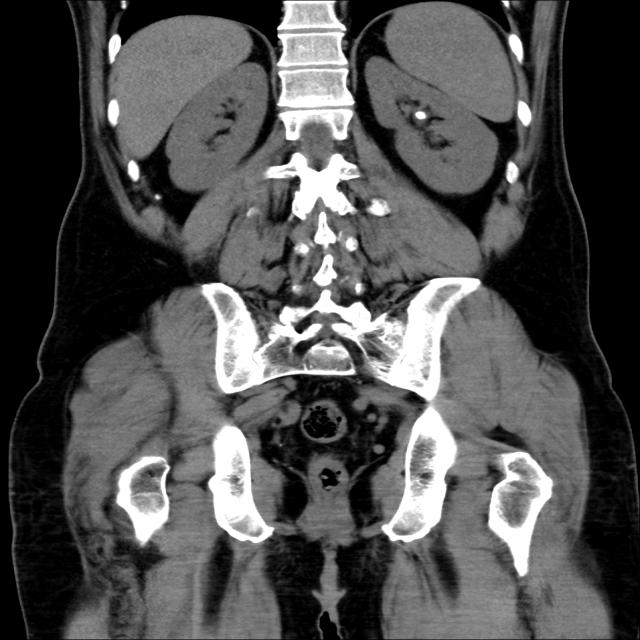kidneystone: (367, 198, 391, 216)
